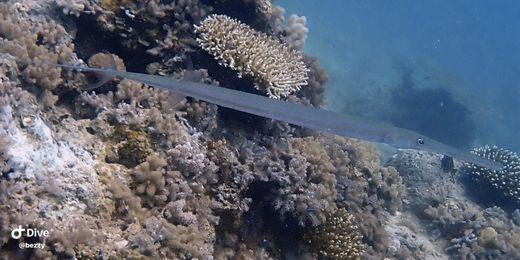Fistularia commersonii: (35, 29, 514, 177)
